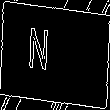N_S: (44, 28, 66, 82)
